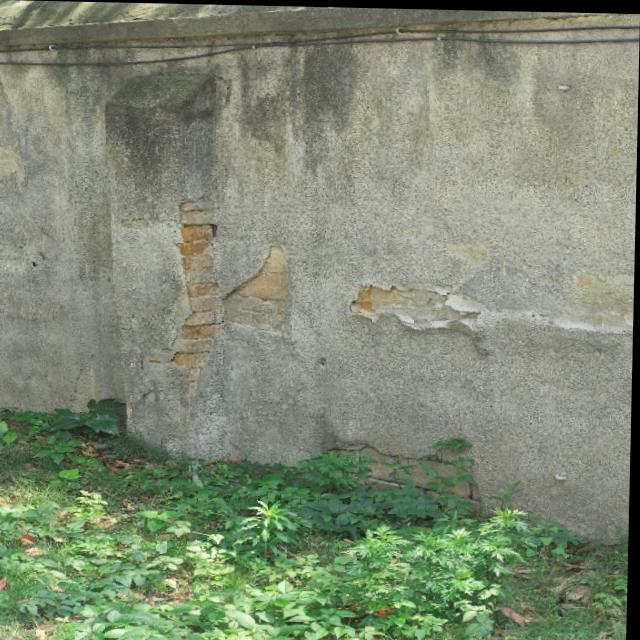mildew: (97, 61, 226, 203), (235, 39, 371, 172)
spalling: (136, 196, 301, 414), (339, 278, 503, 356)
